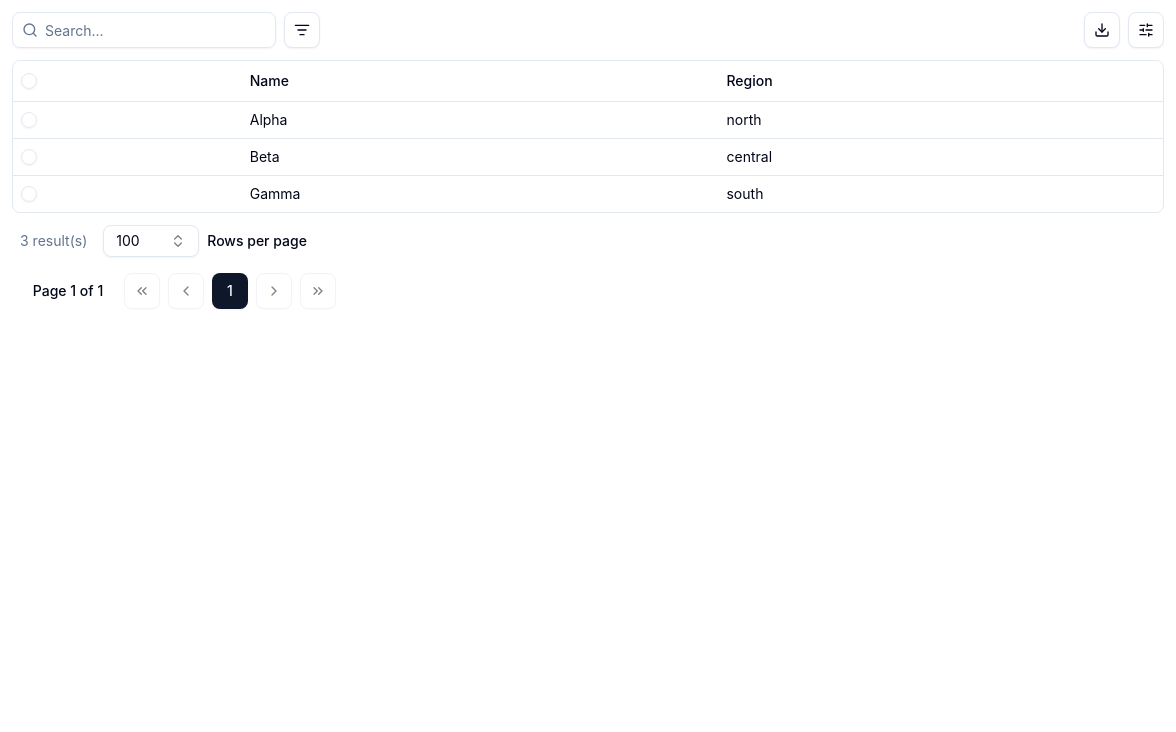
CloudDataTable › shows the template bulk-actions toolbar when rows are selected
Click the checkbox named "Select row" in the row of "Alpha" at (29, 120), box [21,112,37,128]
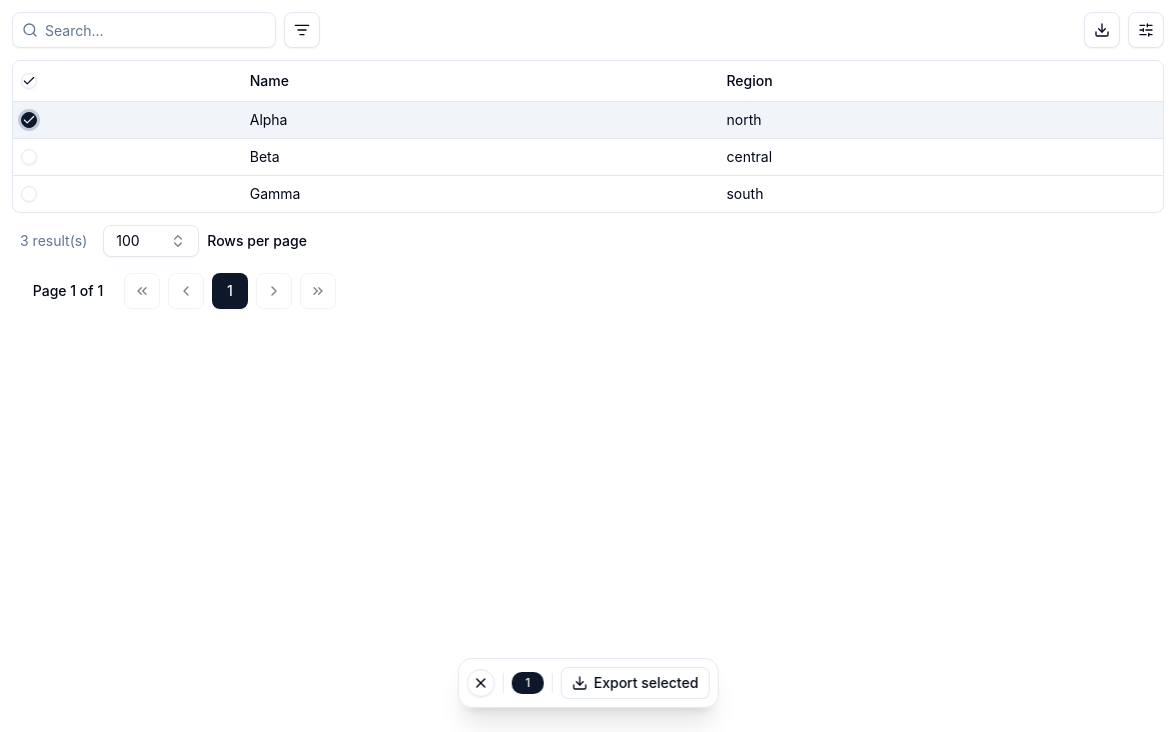
Click the checkbox named "Select row" in the row of "Beta" at (29, 156), box [21,148,37,164]
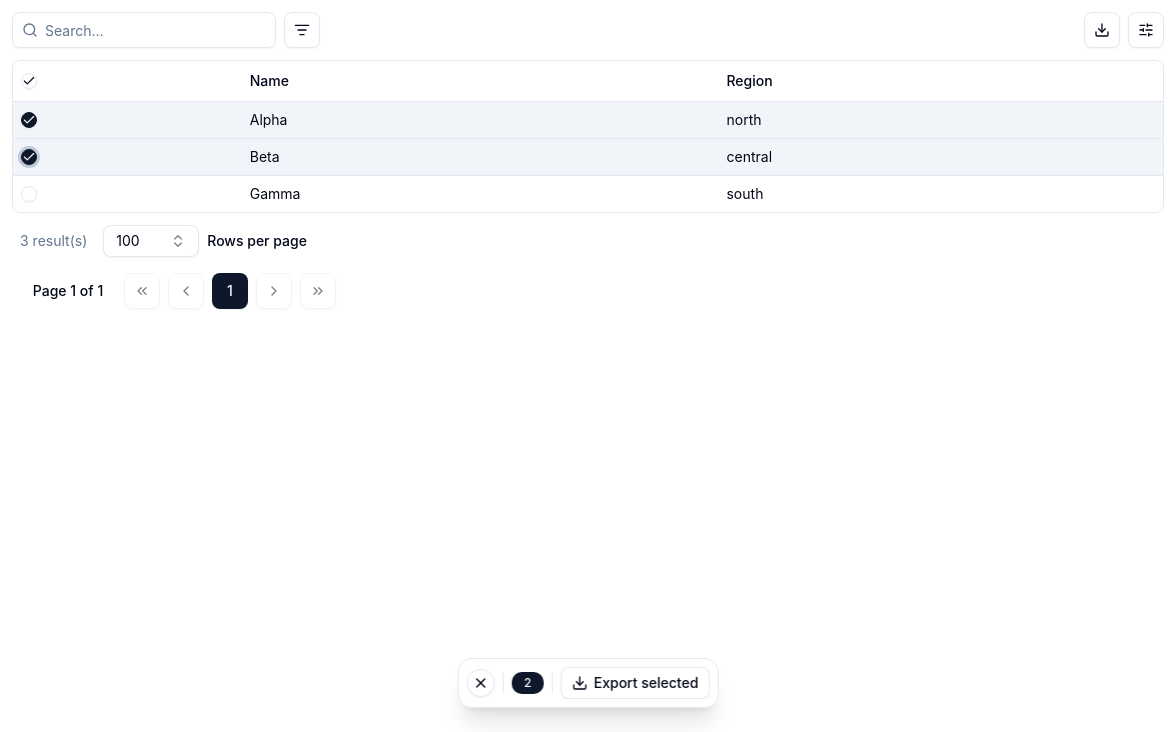
Now the element named "Bulk actions for 2 selected rows" is shown, box [458,658,718,708]
